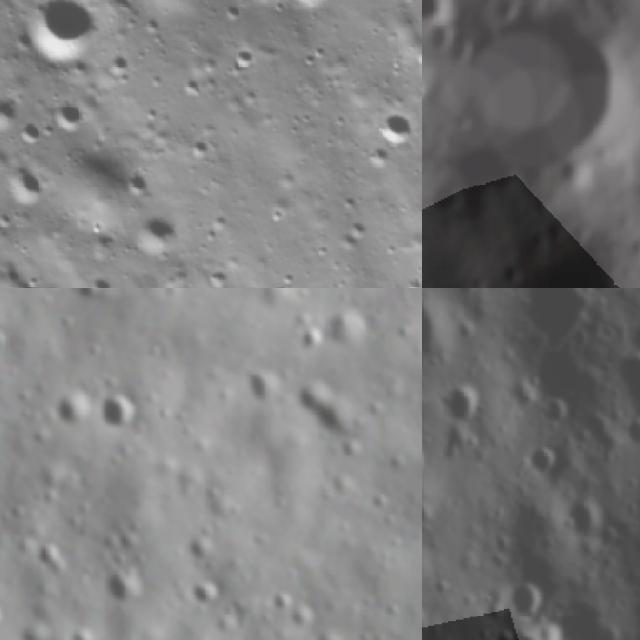crater: (437, 1, 640, 195), (5, 0, 120, 87), (522, 288, 605, 364), (286, 368, 360, 440), (358, 91, 422, 166), (123, 202, 189, 268), (0, 155, 53, 218), (502, 566, 553, 629), (558, 494, 607, 551), (441, 375, 484, 435), (122, 0, 217, 26), (613, 342, 640, 433), (42, 88, 90, 139), (245, 359, 291, 412), (51, 381, 98, 430), (325, 304, 372, 350), (396, 18, 422, 101), (99, 388, 144, 434), (104, 563, 147, 609), (484, 619, 575, 640), (518, 449, 567, 487), (422, 0, 462, 38), (32, 534, 68, 574), (296, 322, 333, 359), (188, 574, 226, 609), (279, 0, 353, 17), (0, 89, 23, 136), (266, 587, 299, 614), (71, 288, 110, 308), (314, 622, 351, 640), (67, 622, 104, 640), (0, 600, 8, 631)
